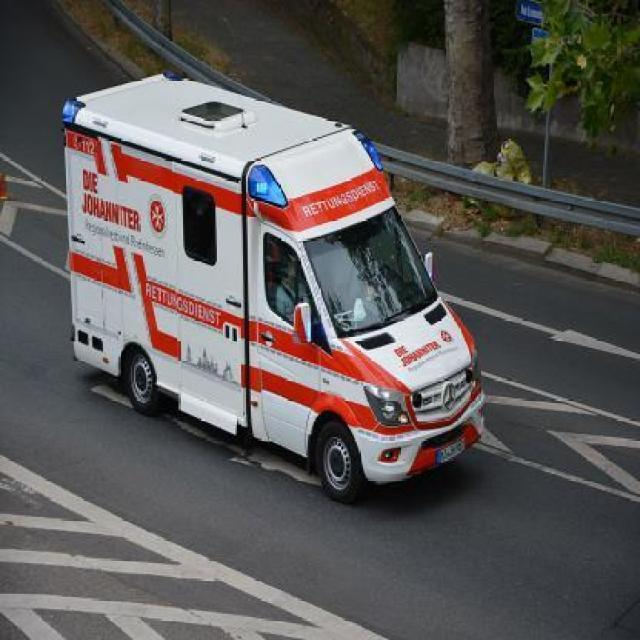emergency: (59, 69, 487, 504)
